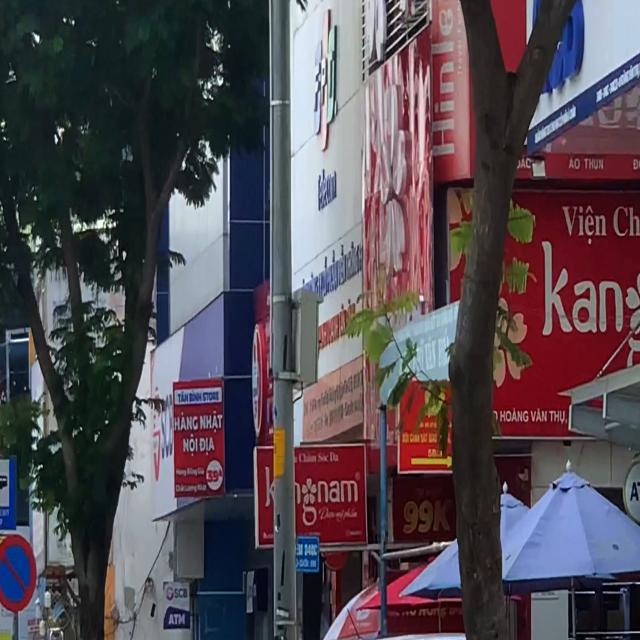Ben xe buyt: (0, 454, 12, 528)
Cam do: (0, 532, 36, 613)
